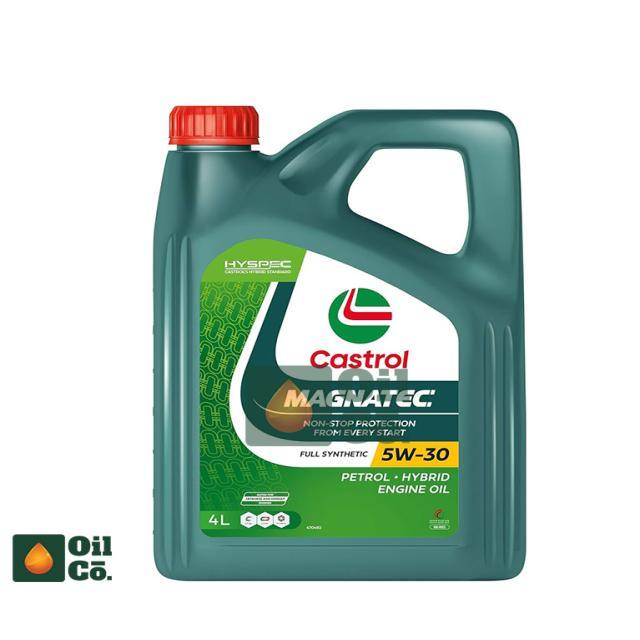motor_oil: (142, 99, 535, 591)
